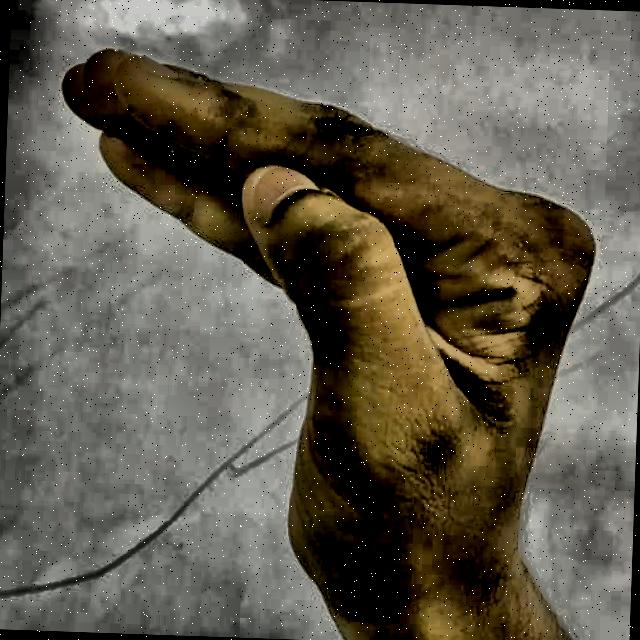Ga: (32, 28, 628, 620)
